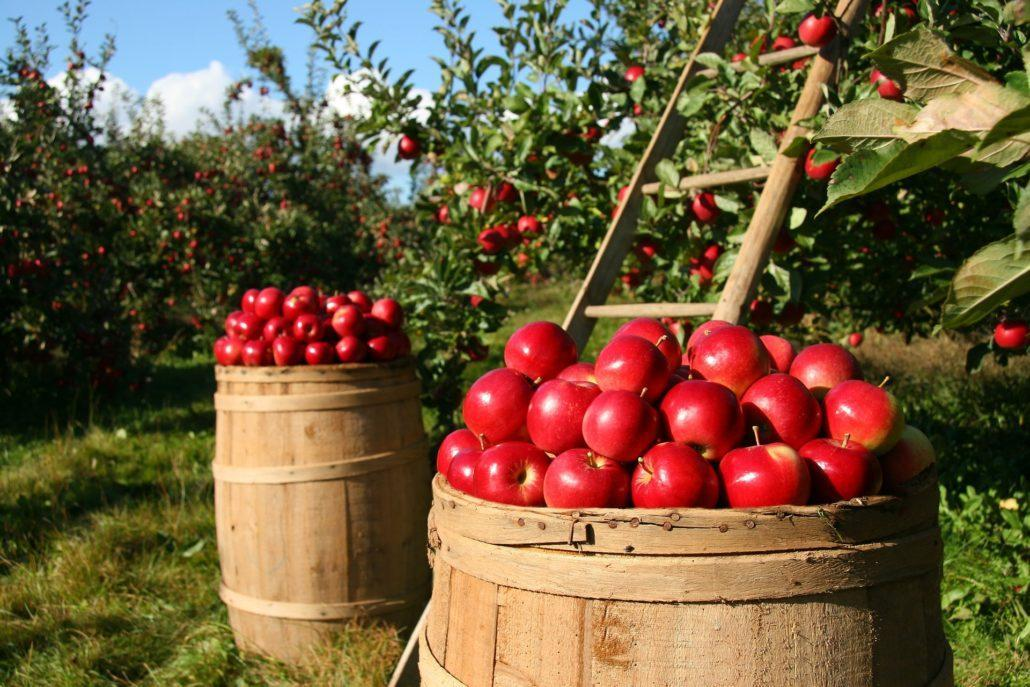apple: (719, 443, 811, 508), (632, 440, 717, 510), (743, 373, 821, 445), (663, 382, 741, 454), (580, 390, 658, 462), (825, 380, 903, 451), (690, 327, 770, 391), (545, 449, 628, 509), (464, 368, 532, 441), (532, 378, 600, 451), (473, 441, 549, 504), (504, 323, 576, 383), (595, 339, 662, 395)
